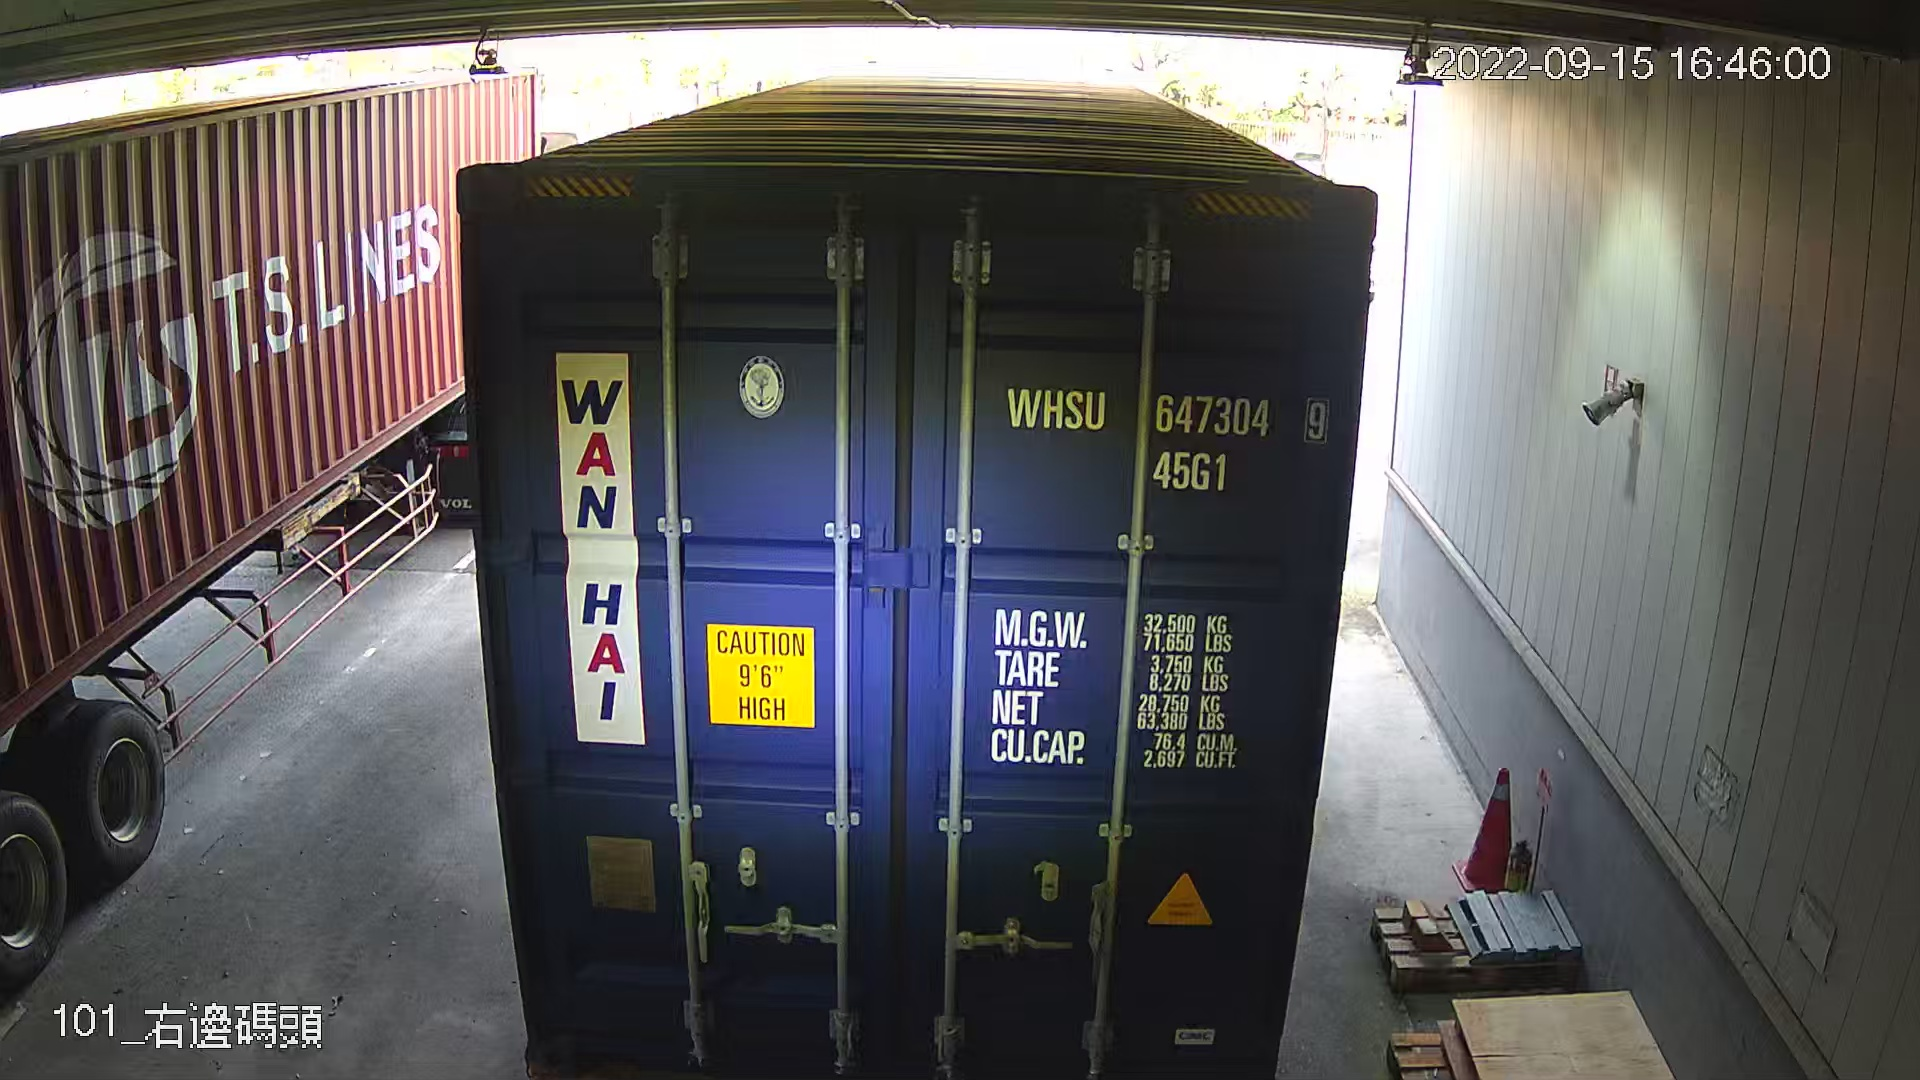container: (992, 373, 1337, 497)
